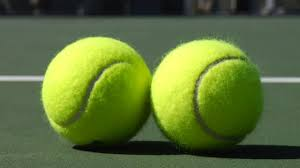tennis ball: (149, 38, 270, 155), (40, 36, 153, 145)
